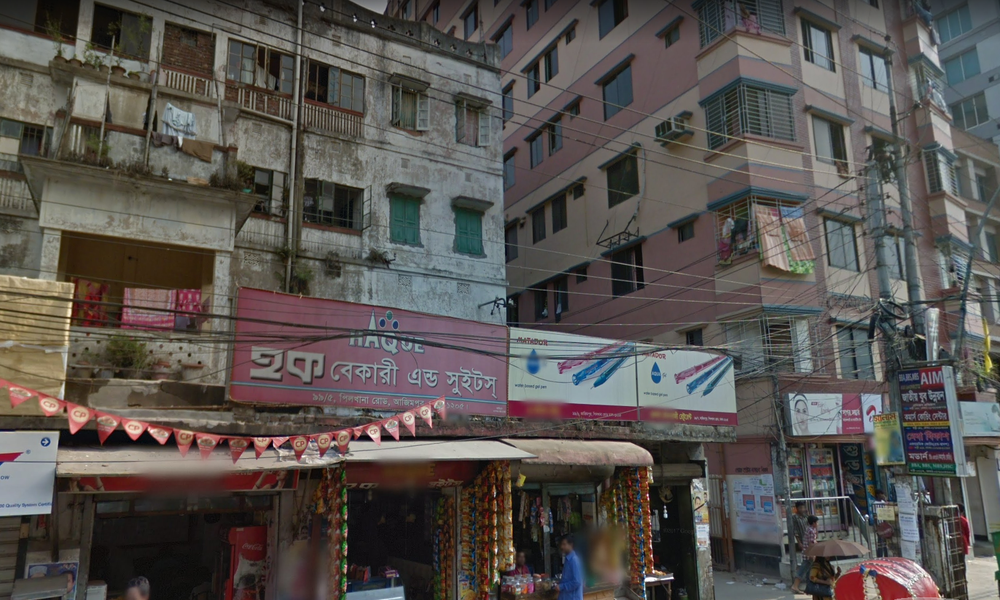SignBoard: (228, 286, 510, 427), (509, 322, 637, 430), (636, 332, 735, 453)
